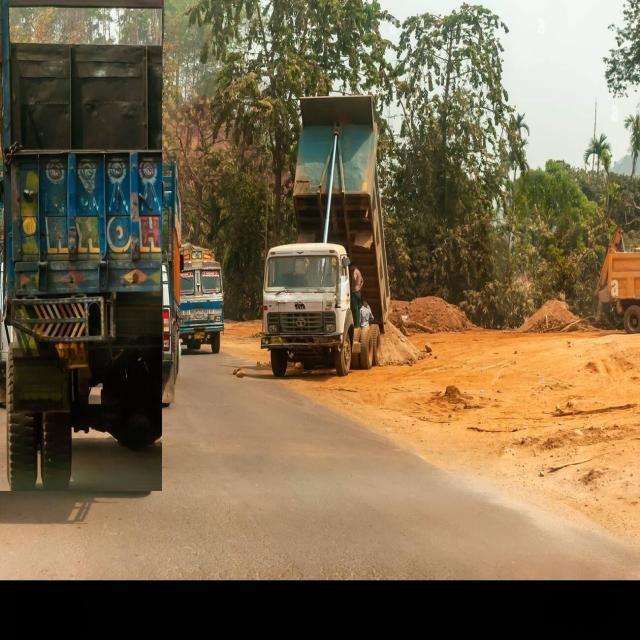truck: (0, 0, 162, 491), (261, 95, 390, 375), (180, 244, 224, 353)
